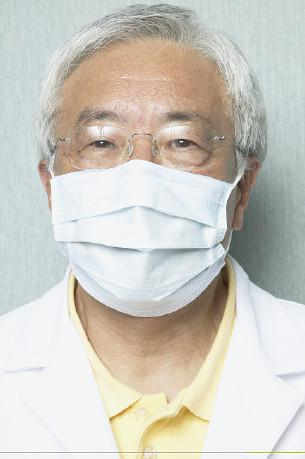OK: (44, 88, 242, 307)
